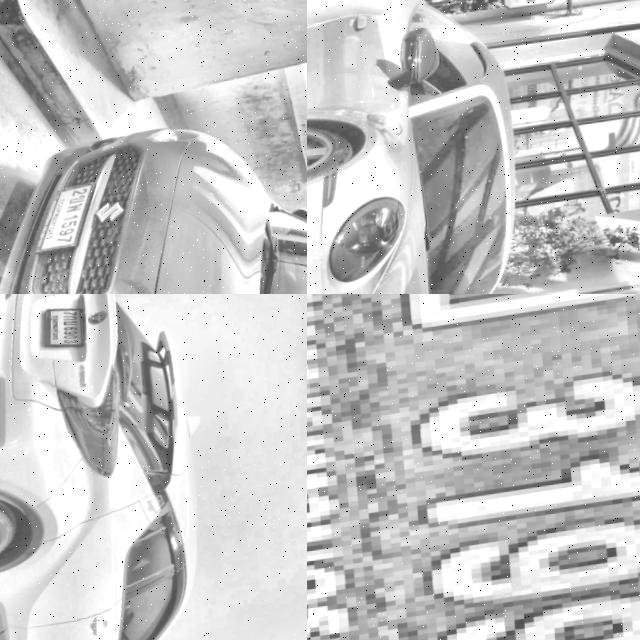license-plate: (307, 294, 640, 640), (30, 183, 104, 259), (33, 297, 90, 367)
